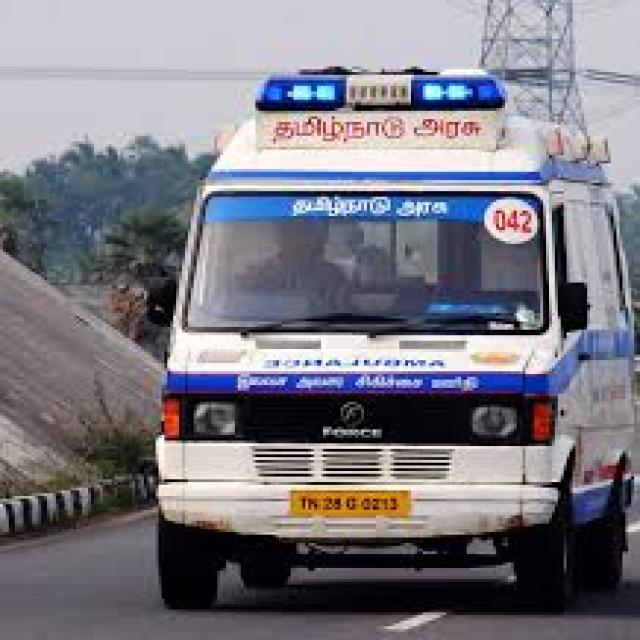Ambulance: (147, 52, 640, 640)
